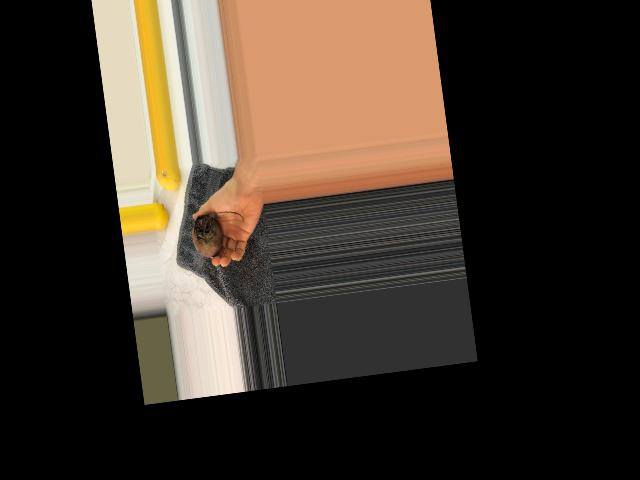beet: (189, 210, 248, 260)
